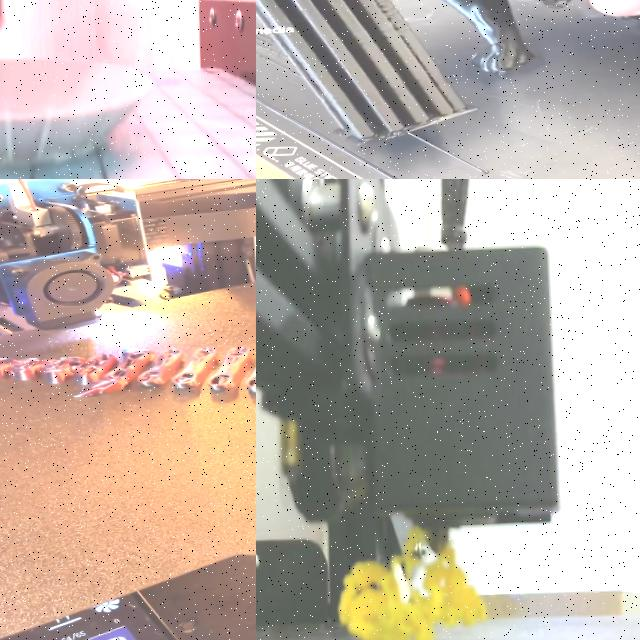spaghetti: (335, 527, 498, 640)
